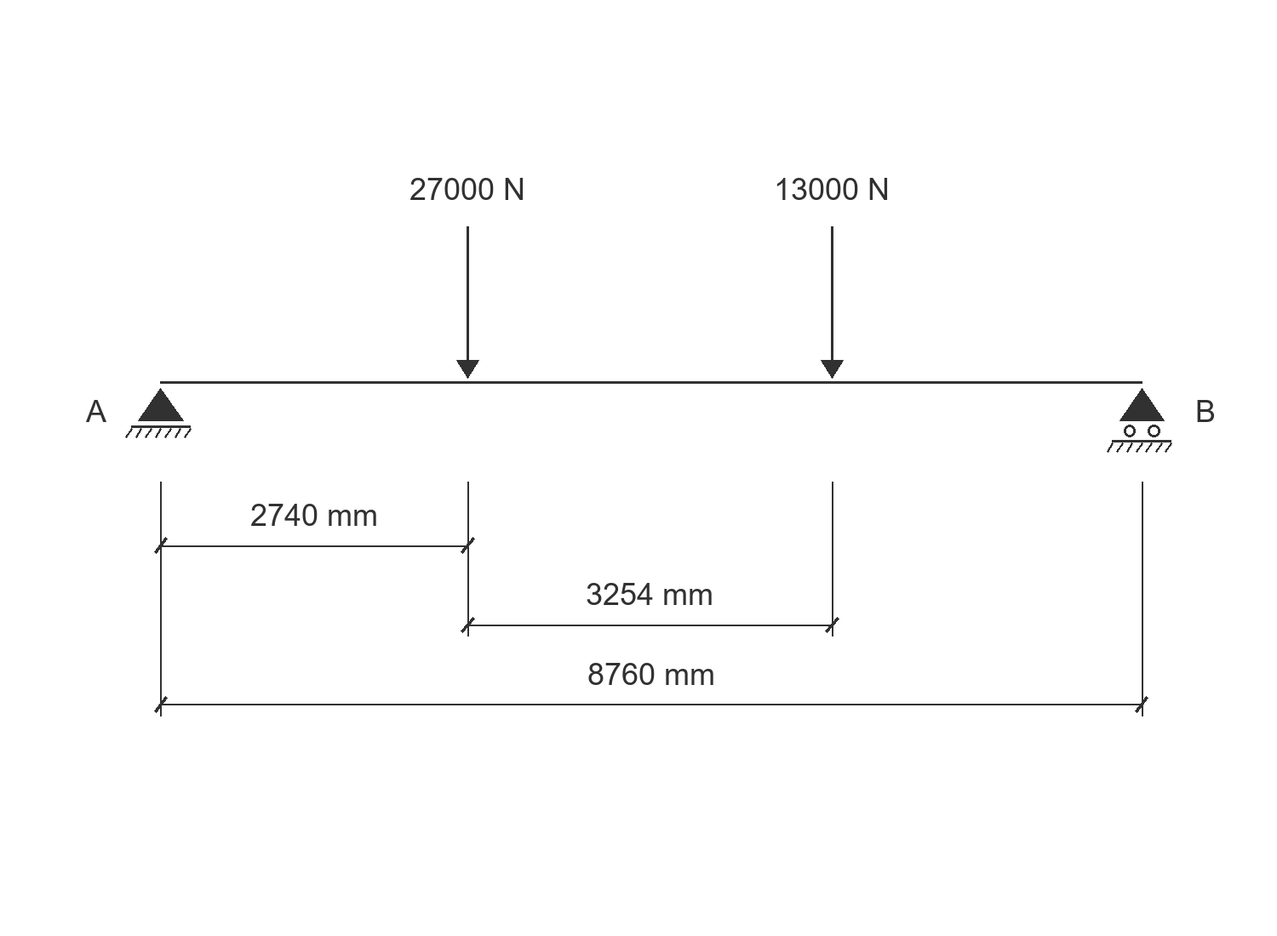pin_support: (125, 388, 192, 438)
point_load: (456, 226, 479, 379), (821, 226, 844, 379)
roller_support: (1107, 388, 1172, 453)
